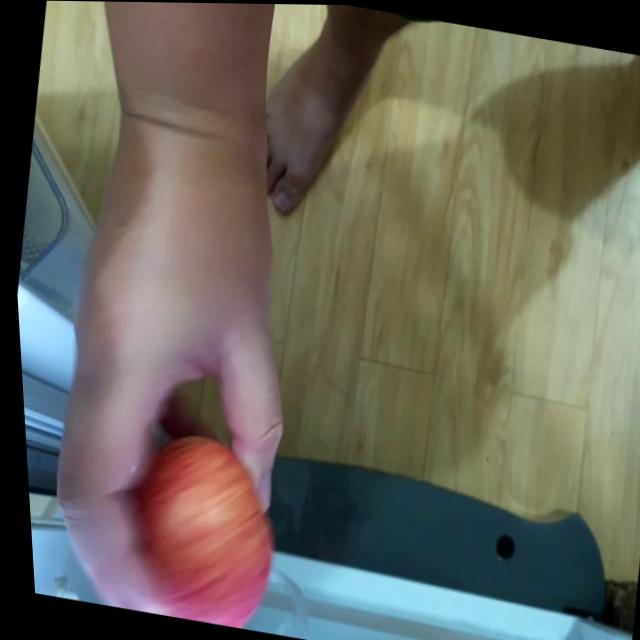apple: (116, 426, 282, 631)
